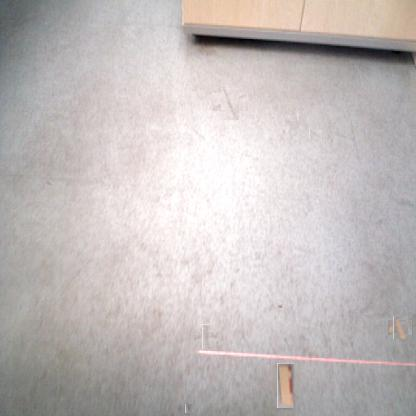dirty: (277, 363, 294, 408), (391, 318, 410, 337)
mark: (217, 88, 244, 116), (198, 328, 215, 345), (190, 125, 206, 141), (288, 113, 302, 127), (309, 129, 322, 139), (185, 403, 192, 413), (44, 179, 52, 187), (276, 304, 284, 310)
